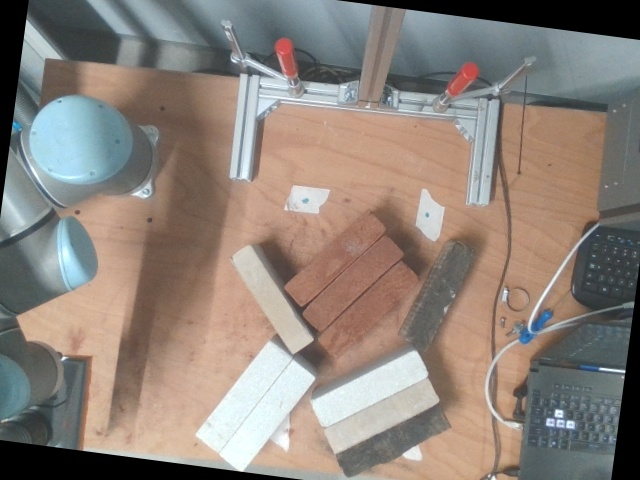brick-side: (221, 364, 312, 468), (286, 211, 383, 306), (199, 346, 289, 448), (304, 235, 400, 330), (320, 262, 416, 357), (232, 246, 310, 352), (314, 352, 425, 425), (326, 381, 437, 452), (336, 408, 446, 477), (408, 240, 477, 349)
